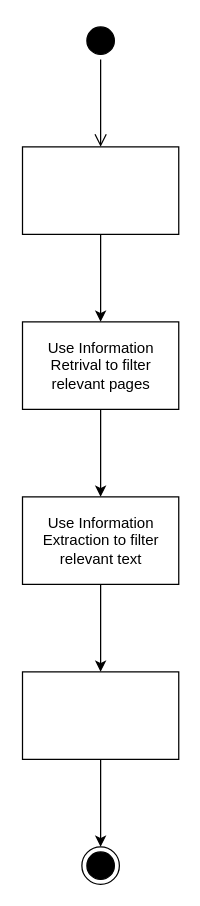
This 200x906 diagram has some shape labels left out. The centre of each missing label's shape, as x and y in pixels:
"Use a web crawler to get a selection of pages" goes at (100,190).
"Use Text Minig to extract relevant infomation" goes at (100,715).
